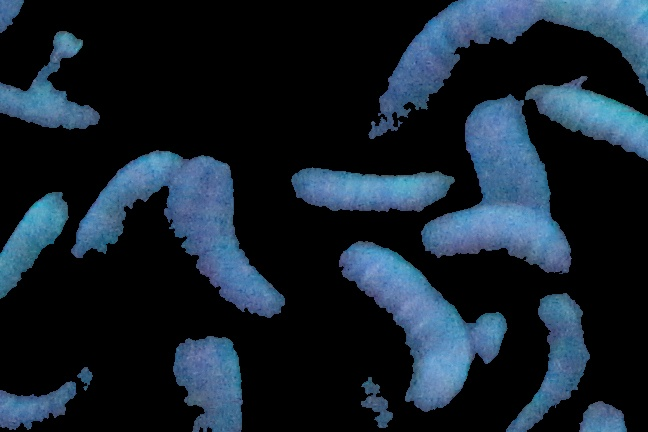larvae: (363, 1, 538, 146), (340, 243, 463, 407), (172, 159, 297, 320), (500, 291, 589, 427), (292, 157, 456, 228), (418, 209, 586, 277), (465, 91, 554, 216), (76, 150, 177, 258), (543, 1, 648, 99), (530, 81, 648, 166), (1, 343, 112, 432), (172, 334, 250, 432), (1, 78, 120, 139), (1, 196, 70, 282), (1, 200, 2, 282)
